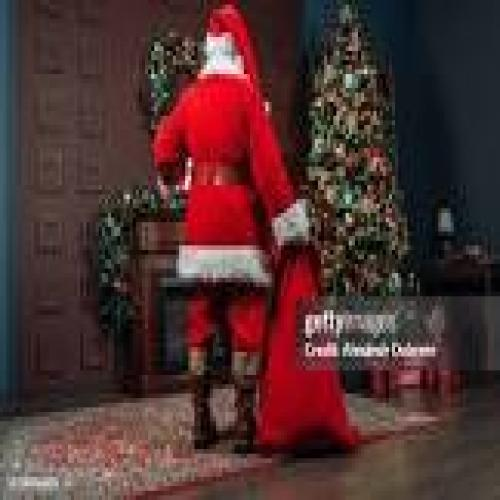Santa: (151, 1, 315, 460)
